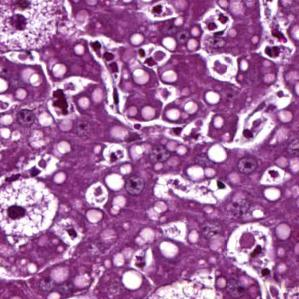ballooning: (6, 3, 66, 69), (4, 175, 61, 241)
